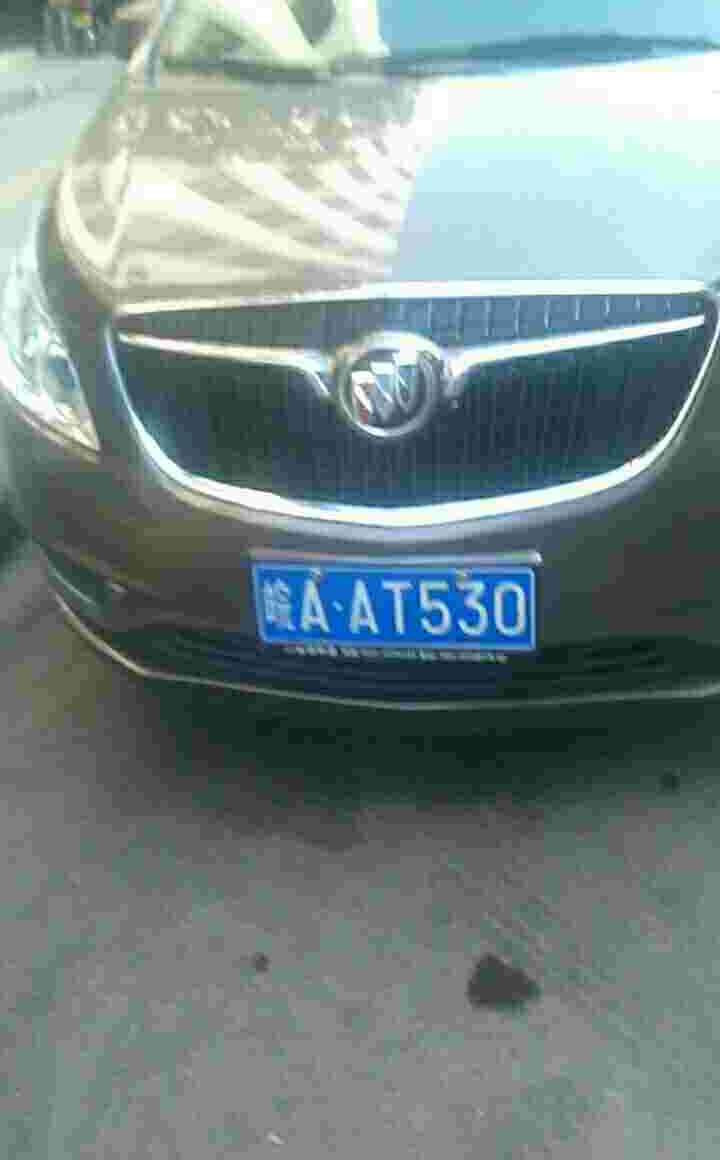plate: (252, 560, 542, 654)
